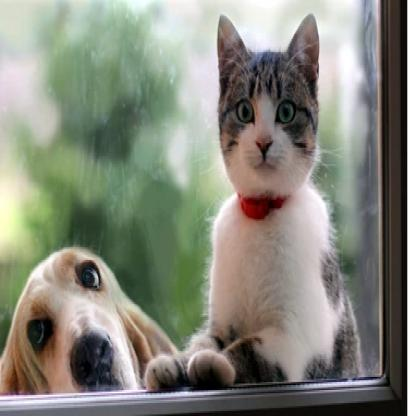cat: (140, 8, 366, 394)
dog: (0, 239, 181, 408)
